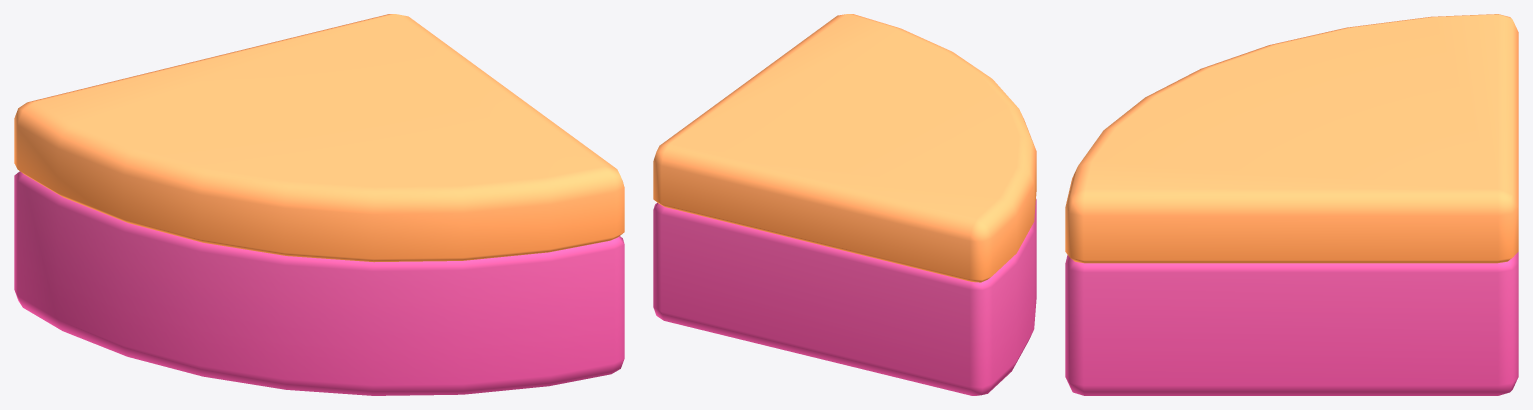
File: Platform_09.glb
3 renders of one model, left to right at view 1: azimuth 30°, elevation 25°; view 2: azimuth 150°, elevation 25°; view 3: azimuth 270°, elevation 25°, orthographic. The views are drawn at different scales.
Parts seen in each view (by area): view 1: Platform_09; view 2: Platform_09; view 3: Platform_09.
Boxes of the visible parts, x1,y1,x2,y2 form: Platform_09: [14, 14, 624, 395]; Platform_09: [653, 14, 1036, 395]; Platform_09: [1065, 14, 1518, 395].
Size of the model in its own units: 5.97 by 3 by 5.97.
1 material, 1 textured.
